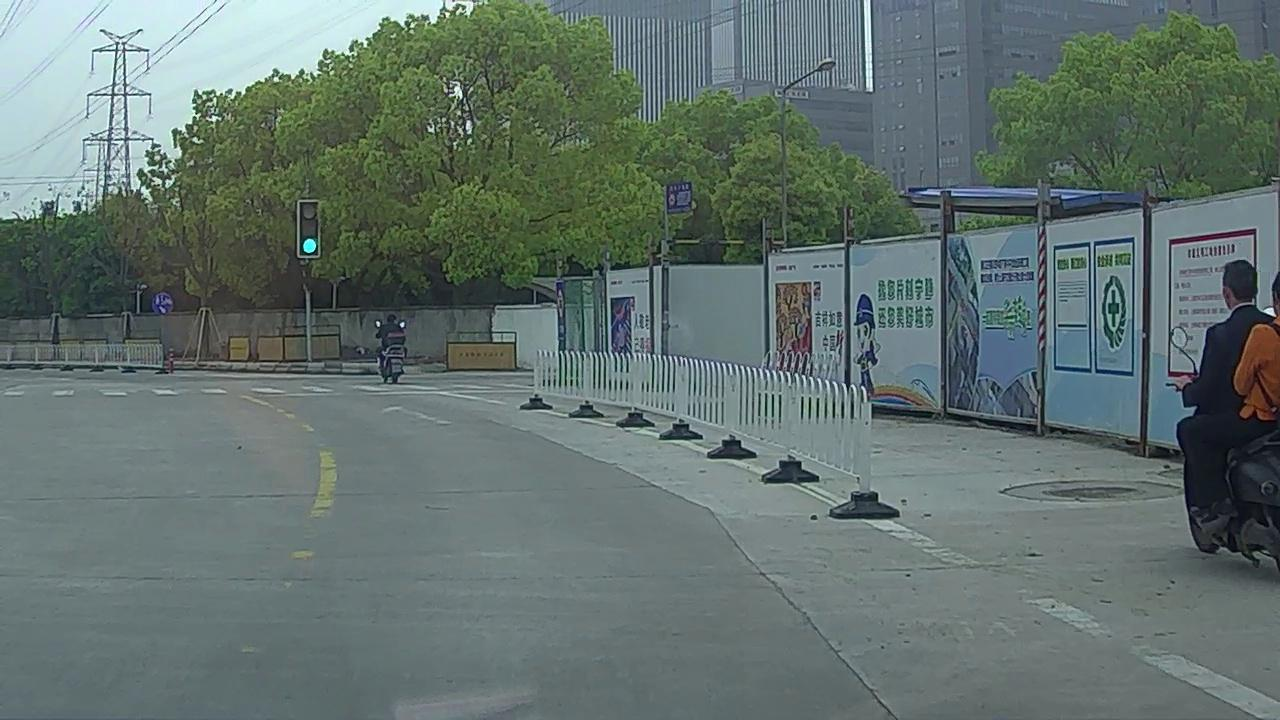traffic_light: (299, 200, 319, 256)
